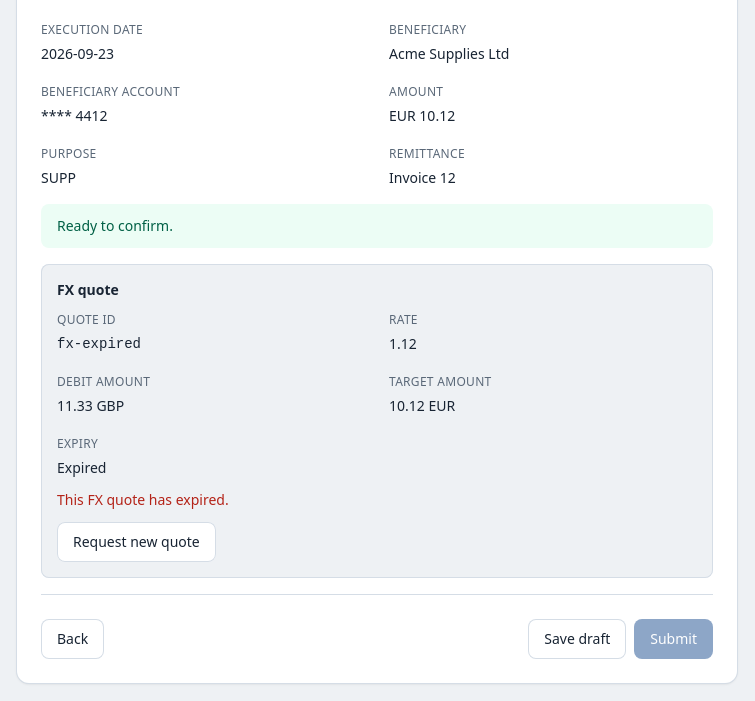
it: PaymentFormComponent › blocks Confirm when a required FX quote has expired
(page scrolled)
expect the button "Submit" is disabled: met, box [634,619,713,659]
Click the button "Request new quote" at x=136, y=542, box [57,522,216,562]
(page scrolled)
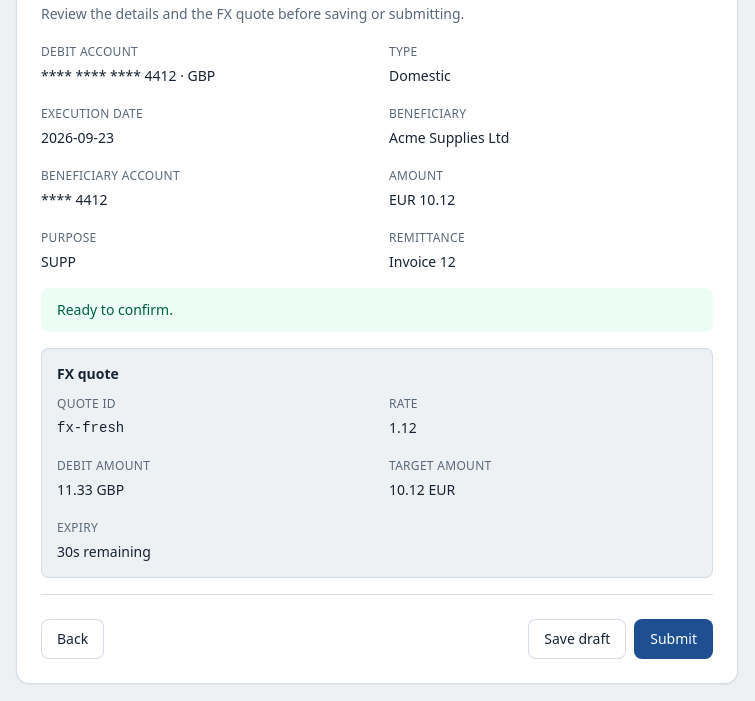
expect the text "fx-fresh" is shown: met, box [57,420,124,436]
expect the button "Submit" is enabled: met, box [634,619,713,659]
